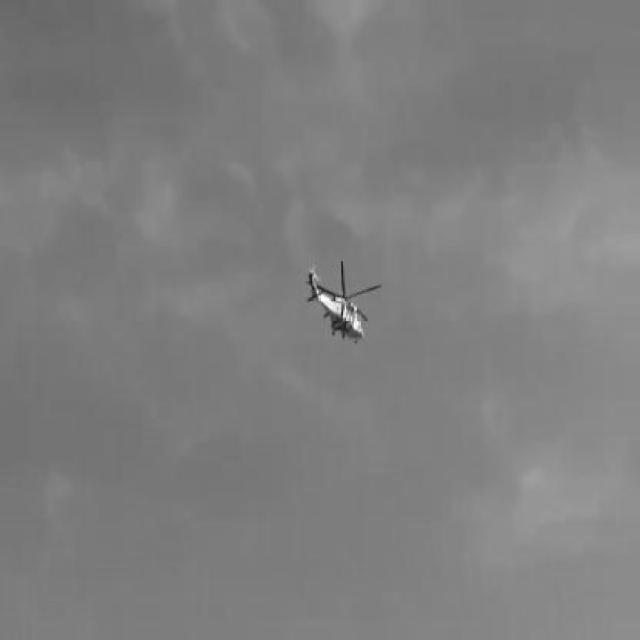helikopter: (304, 262, 382, 340)
